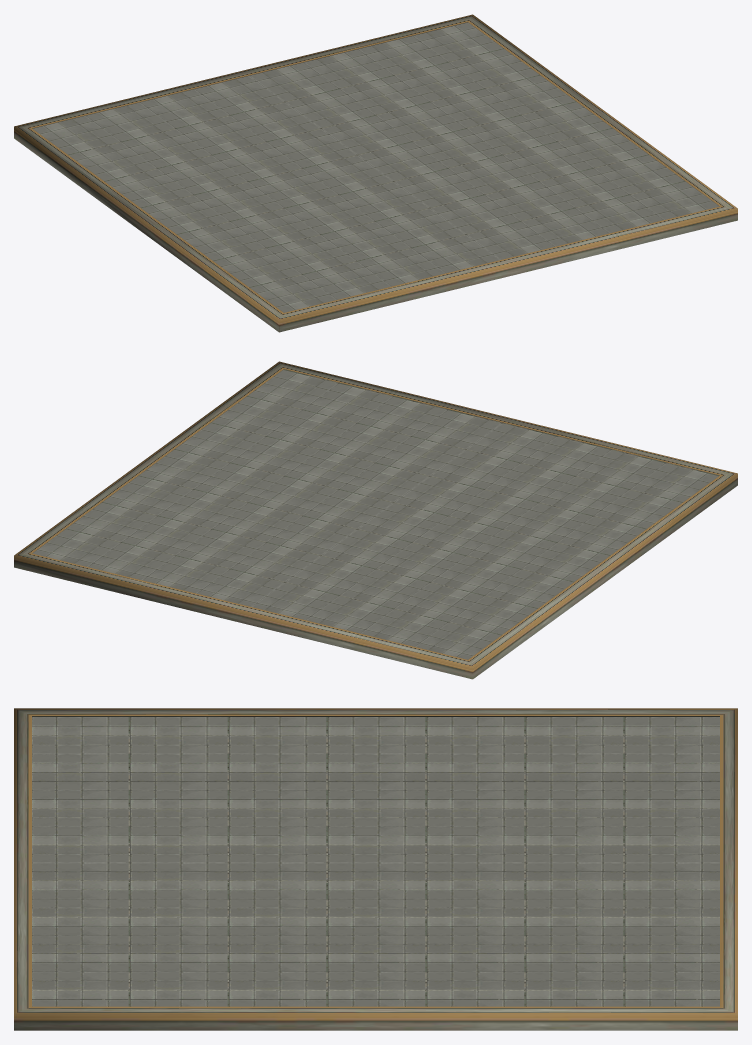
File: Yland1_jz_13 Yland1.FBX
3 renders of one model, top to bottom at view 1: azimuth 30°, elevation 25°; view 2: azimuth 150°, elevation 25°; view 3: azimuth 270°, elevation 25°, orthographic. The views are drawn at different scales.
Parts seen in each view (by area): view 1: Yland1_jz_13 Yland1; view 2: Yland1_jz_13 Yland1; view 3: Yland1_jz_13 Yland1.
Part boxes in pixels (x1=…): Yland1_jz_13 Yland1: x1=14, y1=14, x2=737, y2=332; Yland1_jz_13 Yland1: x1=14, y1=361, x2=737, y2=679; Yland1_jz_13 Yland1: x1=14, y1=708, x2=737, y2=1030.
Bounding box in the file's own units: 26.59 × 0.6648 × 26.61.
